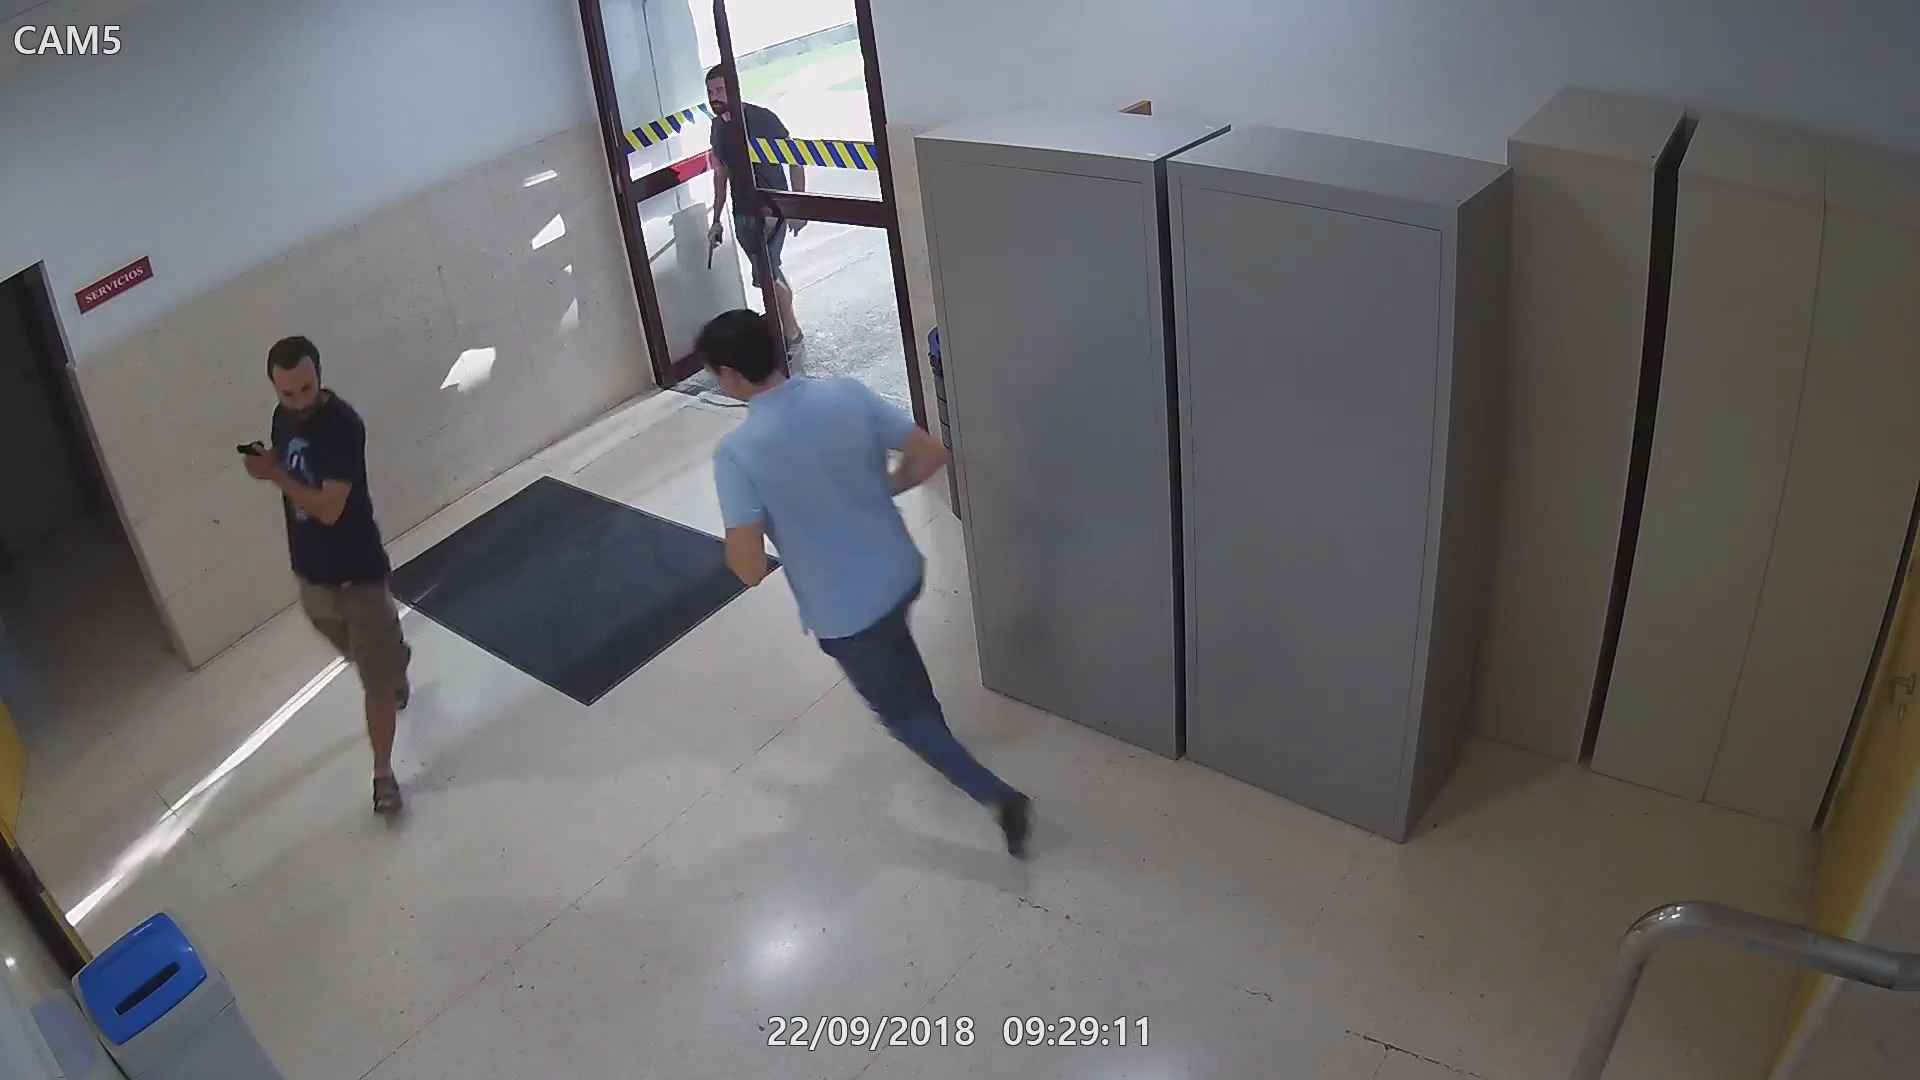pistol: (236, 436, 280, 487), (704, 218, 731, 272)
